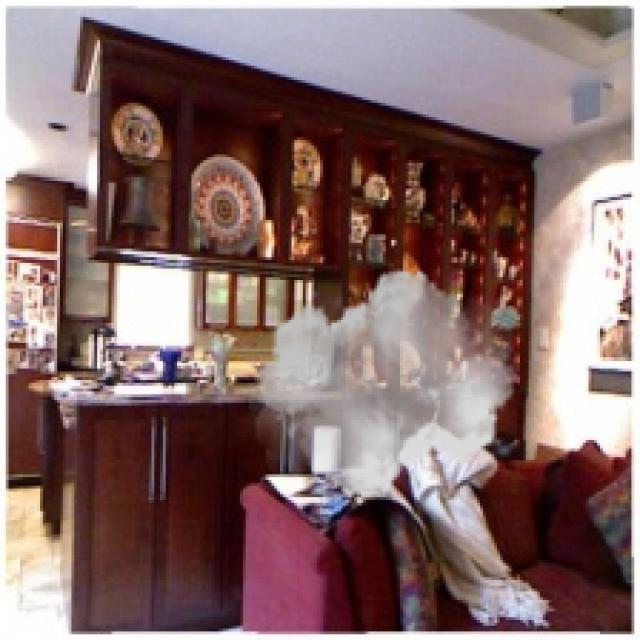smoke: (249, 260, 520, 509)
